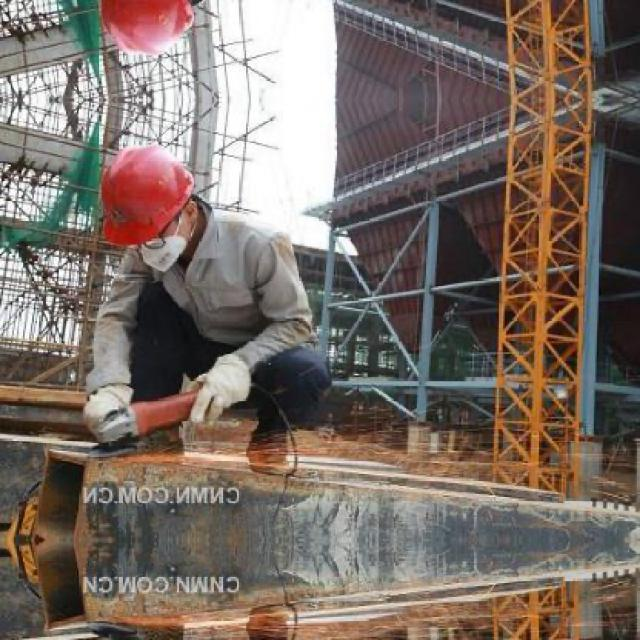helmet: (90, 134, 212, 269), (88, 0, 212, 65)
